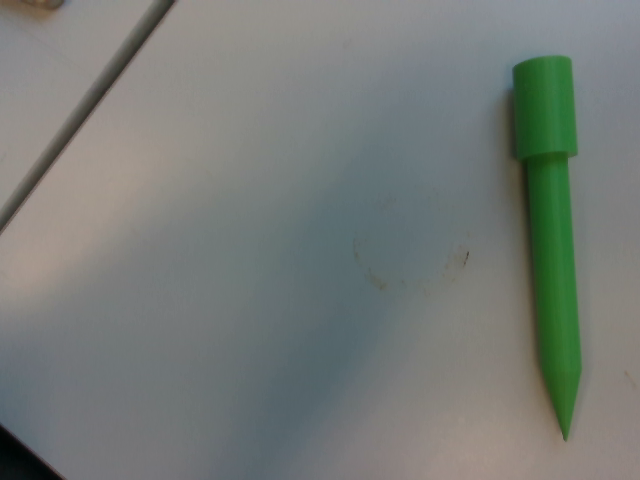Probe: (504, 48, 591, 448)
